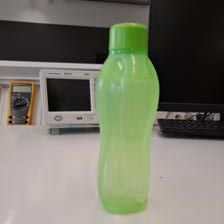bottle: (90, 23, 160, 213)
